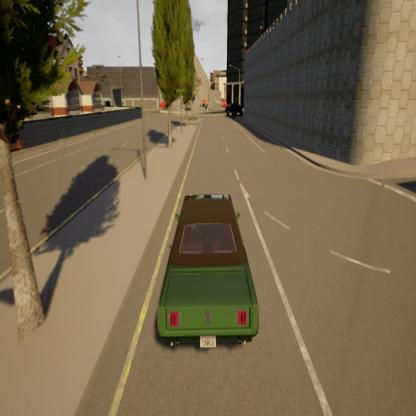Cars: (157, 192, 259, 350), (225, 102, 245, 119)
